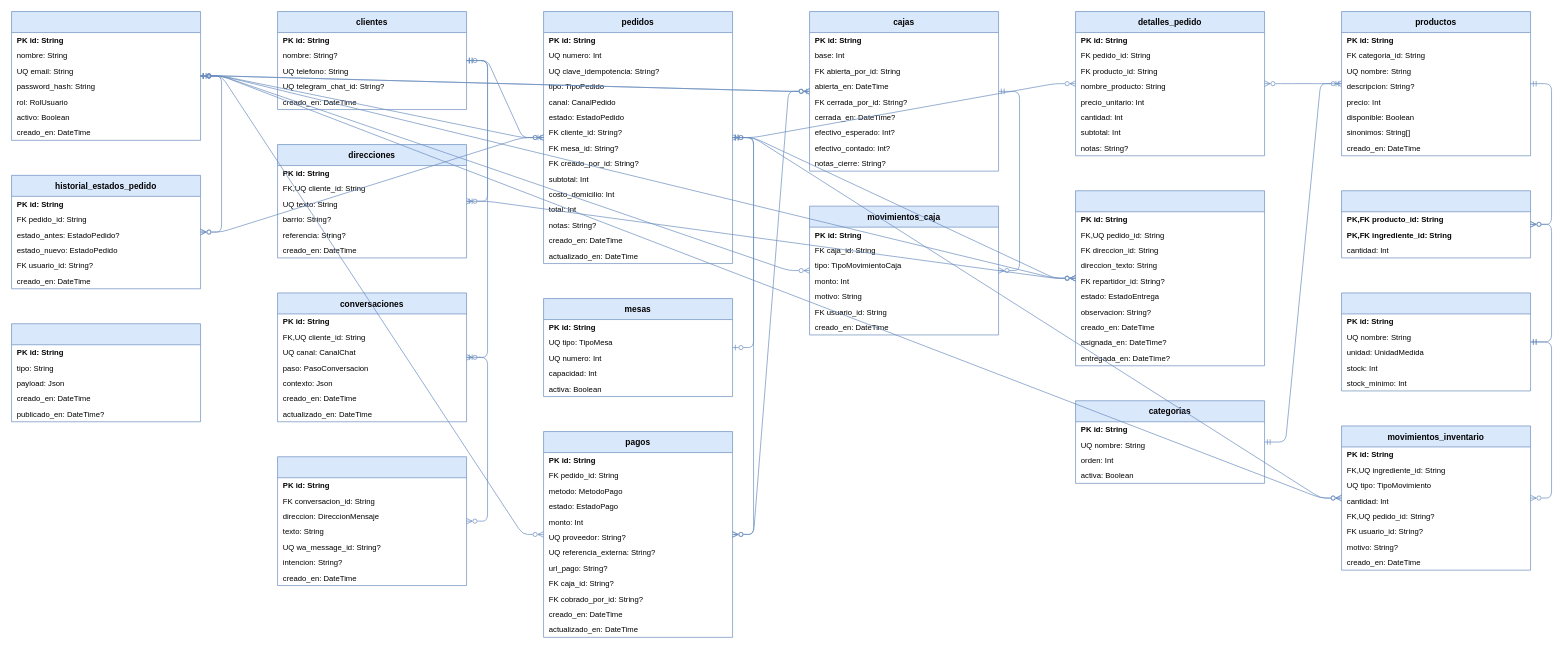
This 1563x649 diagram has some shape labels left out. Each missing label, with the box of its shape:
entregas: (1075, 190, 1265, 366)
eventos_outbox: (11, 323, 201, 422)
ingredientes: (1341, 292, 1531, 391)
mensajes: (277, 456, 467, 586)
recetas: (1341, 190, 1531, 258)
usuarios: (11, 11, 201, 140)
